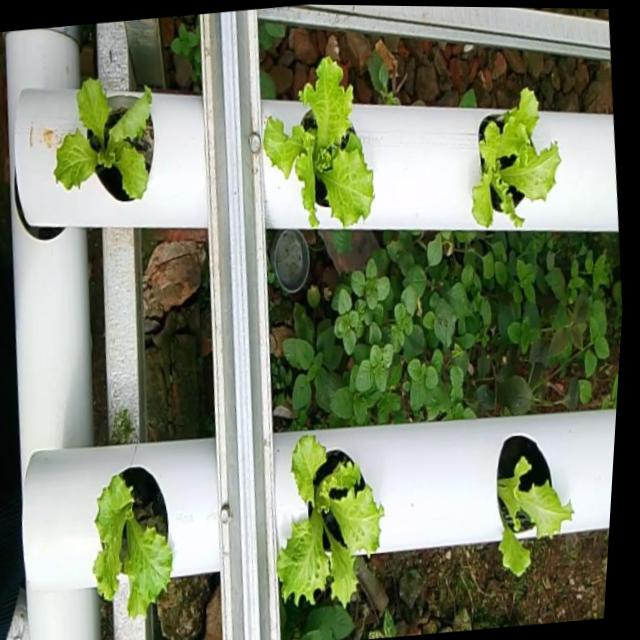Baby: (276, 439, 382, 621), (262, 62, 372, 233), (52, 84, 153, 209), (469, 91, 557, 230), (92, 472, 171, 624), (495, 436, 572, 577)
